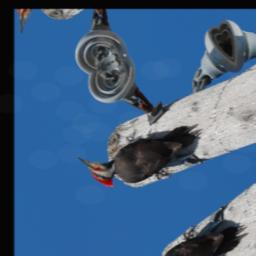Woodpecker: (75, 94, 214, 217)
